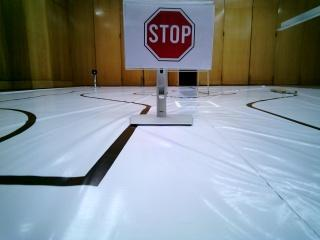stop: (119, 2, 216, 68)
